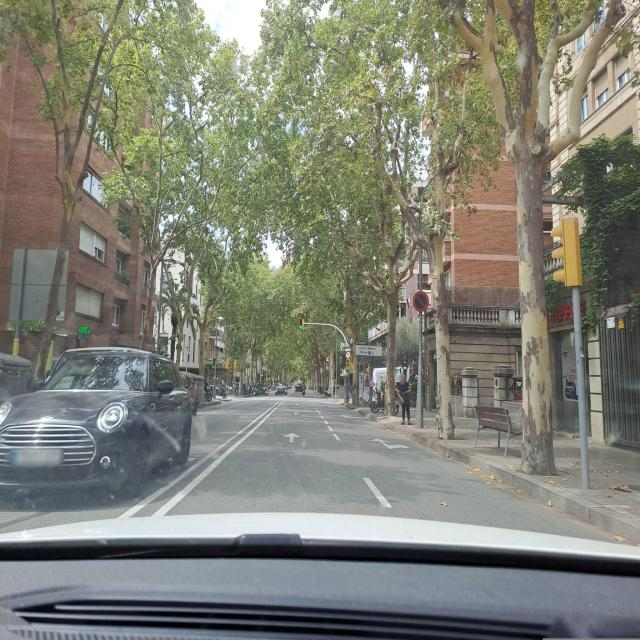bike: (369, 387, 398, 414), (223, 380, 240, 396), (215, 381, 226, 399), (205, 378, 212, 403), (302, 387, 306, 396)
car: (0, 345, 193, 507), (179, 371, 198, 413), (254, 382, 268, 396), (274, 382, 288, 396), (294, 382, 304, 395)
